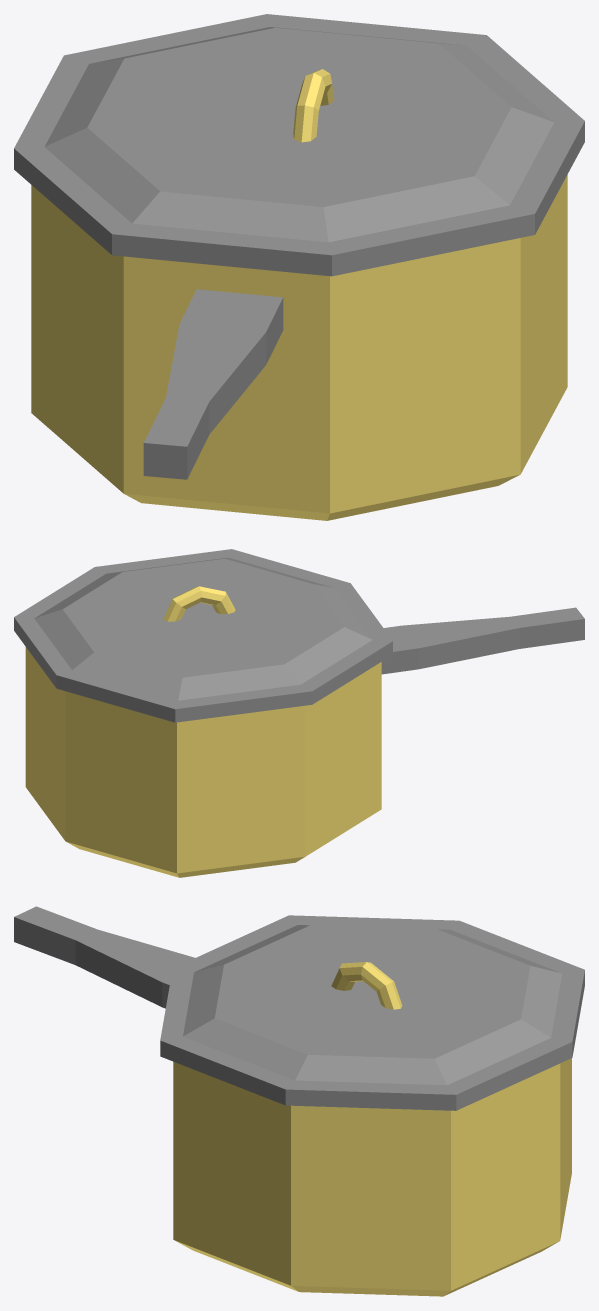
The model's file is Pan.fbx.
3 views of the same model, one above another, from view 1: azimuth 30°, elevation 25°; view 2: azimuth 150°, elevation 25°; view 3: azimuth 270°, elevation 25° (orthographic). The views are drawn at different scales.
Visible parts, largest first — view 1: Pan; view 2: Pan; view 3: Pan.
Boxes of the visible parts, x1,y1,x2,y2 form: Pan: [14, 14, 584, 520]; Pan: [14, 549, 584, 877]; Pan: [14, 906, 584, 1296].
Bounding box in the file's own units: 41.54 × 43.69 × 22.18.
